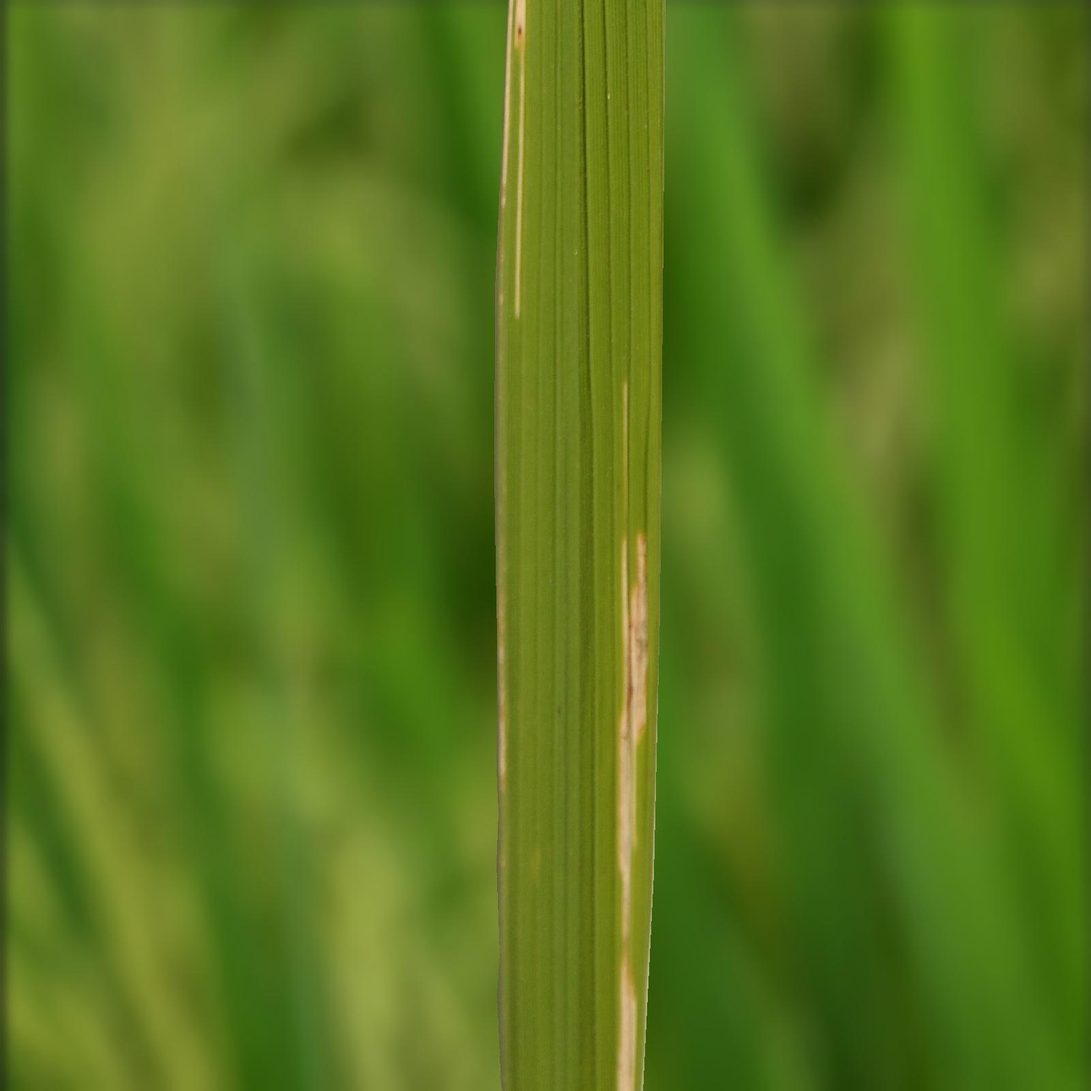BLS: (616, 531, 650, 1090), (515, 57, 526, 318), (514, 0, 525, 57)
LEAF: (494, 0, 665, 1090)
